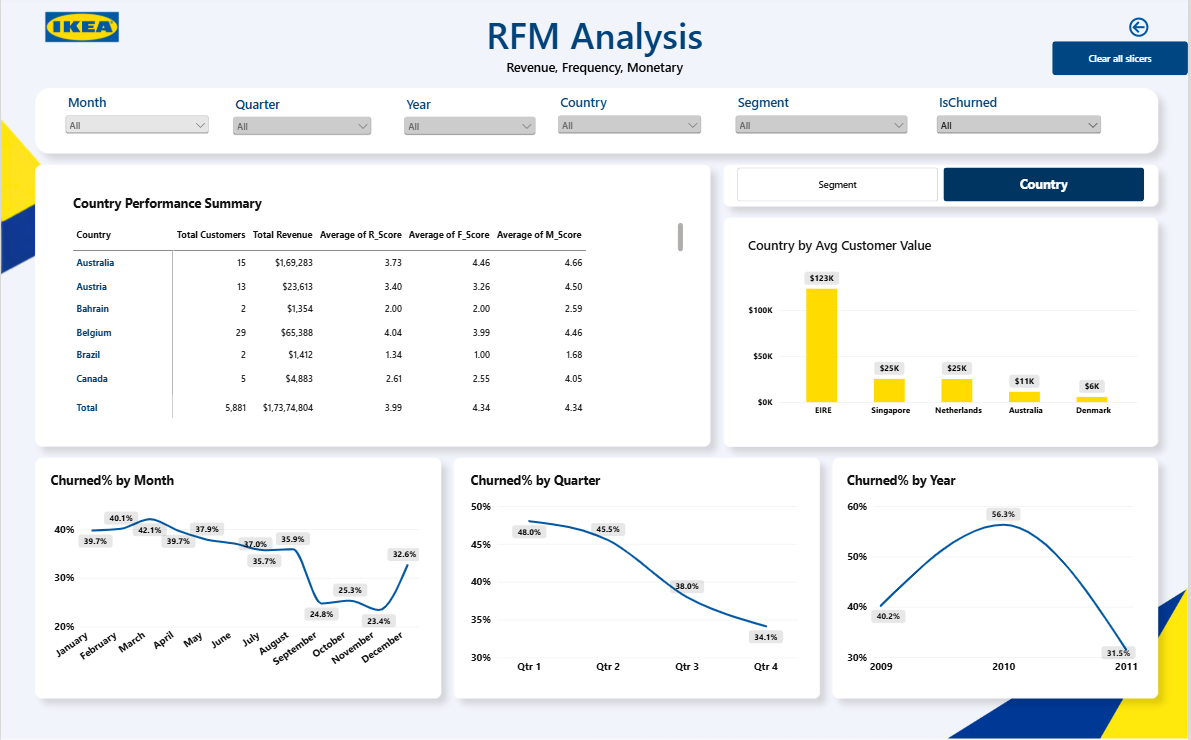

The dashboard page shown, as its layout file describes it:
{"tool":"powerbi","page":{"name":"RFM Analysis","canvas":[1750,1100],"ordinal":2},"visuals":[{"type":"columnChart","title":"Country by Avg Customer Value","fields":{"Category":["Sheet1.Country"],"Y":["Sheet1.Avg Customer Value"]},"box":[1086,340,606,300],"z":0,"group":"g1"},{"type":"lineChart","title":"Churned% by Year","fields":{"Category":["Sheet1.InvoiceMonth.Variation.Date Hierarchy.Year"],"Y":["Sheet1.Churned %"]},"box":[1231.2,687.5,460.8,333.6],"z":0},{"type":"pivotTable","title":"Country Performance Summary","fields":{"Rows":["Sheet1.Country"],"Values":["Sheet1.Total Customers","Sheet1.Total Revenue","Avg(Sheet1.R_Score)","Avg(Sheet1.F_Score)","Avg(Sheet1.M_Score)"]},"box":[90,280,932,360],"z":1000,"group":"g1"},{"type":"lineChart","title":"Churned% by Quarter","fields":{"Category":["Sheet1.InvoiceMonth.Variation.Date Hierarchy.Quarter"],"Y":["Sheet1.Churned %"]},"box":[676,688,514,334],"z":1000},{"type":"slicer","fields":{"Values":["Sheet1.InvoiceDate.Variation.Date Hierarchy.Month"]},"box":[90.3,145.6,221.2,71.9],"z":2000},{"type":"lineChart","title":"Churned% by Month","fields":{"Category":["Sheet1.InvoiceMonth.Variation.Date Hierarchy.Month"],"Y":["Sheet1.Churned %"]},"box":[57.1,687.5,575.1,333.6],"z":3000},{"type":"slicer","fields":{"Values":["Sheet1.InvoiceDate.Variation.Date Hierarchy.Quarter"]},"box":[337.3,147.5,213.8,75.6],"z":4000},{"type":"slicer","fields":{"Values":["Sheet1.InvoiceDate.Variation.Date Hierarchy.Year"]},"box":[589.8,147.5,203,150],"z":5000},{"type":"slicer","fields":{"Values":["Sheet1.Country"]},"box":[816.5,145.6,221,150],"z":6000},{"type":"slicer","fields":{"Values":["Sheet1.Segment"]},"box":[1078.3,145.6,263.6,232.2],"z":7000},{"type":"slicer","fields":{"Values":["Sheet1.IsChurned"]},"box":[1375,145.6,252.5,300.4],"z":8000},{"type":"bookmarkNavigator","box":[1086,254,600,50],"z":10000},{"type":"image","box":[38,0,162,94],"z":12000},{"type":"textbox","box":[455,22,840,96],"z":13000},{"type":"actionButton","box":[1628,28,100,40],"z":14000},{"type":"actionButton","box":[1550,68,200,50],"z":15000},{"type":"group","id":"g1","title":"Country","box":[90,280,1602,360],"z":16000}]}

Visuals, with their boxes in screenshot pixels (x1, y1, x2, y2), scaled from the page's 1750x1100 canvas onto the 1191x740 screenshot:
"Country by Avg Customer Value" columnChart: region(739, 229, 1152, 431)
"Churned% by Year" lineChart: region(838, 462, 1152, 687)
"Country Performance Summary" pivotTable: region(61, 188, 696, 431)
"Churned% by Quarter" lineChart: region(460, 463, 810, 688)
slicer - Sheet1.InvoiceDate.Variation.Date Hierarchy.Month: region(61, 98, 212, 146)
"Churned% by Month" lineChart: region(39, 462, 430, 687)
slicer - Sheet1.InvoiceDate.Variation.Date Hierarchy.Quarter: region(230, 99, 375, 150)
slicer - Sheet1.InvoiceDate.Variation.Date Hierarchy.Year: region(401, 99, 540, 200)
slicer - Sheet1.Country: region(556, 98, 706, 199)
slicer - Sheet1.Segment: region(734, 98, 913, 254)
slicer - Sheet1.IsChurned: region(936, 98, 1108, 300)
bookmarkNavigator: region(739, 171, 1147, 205)
image: region(26, 0, 136, 63)
textbox: region(310, 15, 881, 79)
actionButton: region(1108, 19, 1176, 46)
actionButton: region(1055, 46, 1190, 79)
"Country" group: region(61, 188, 1152, 431)
